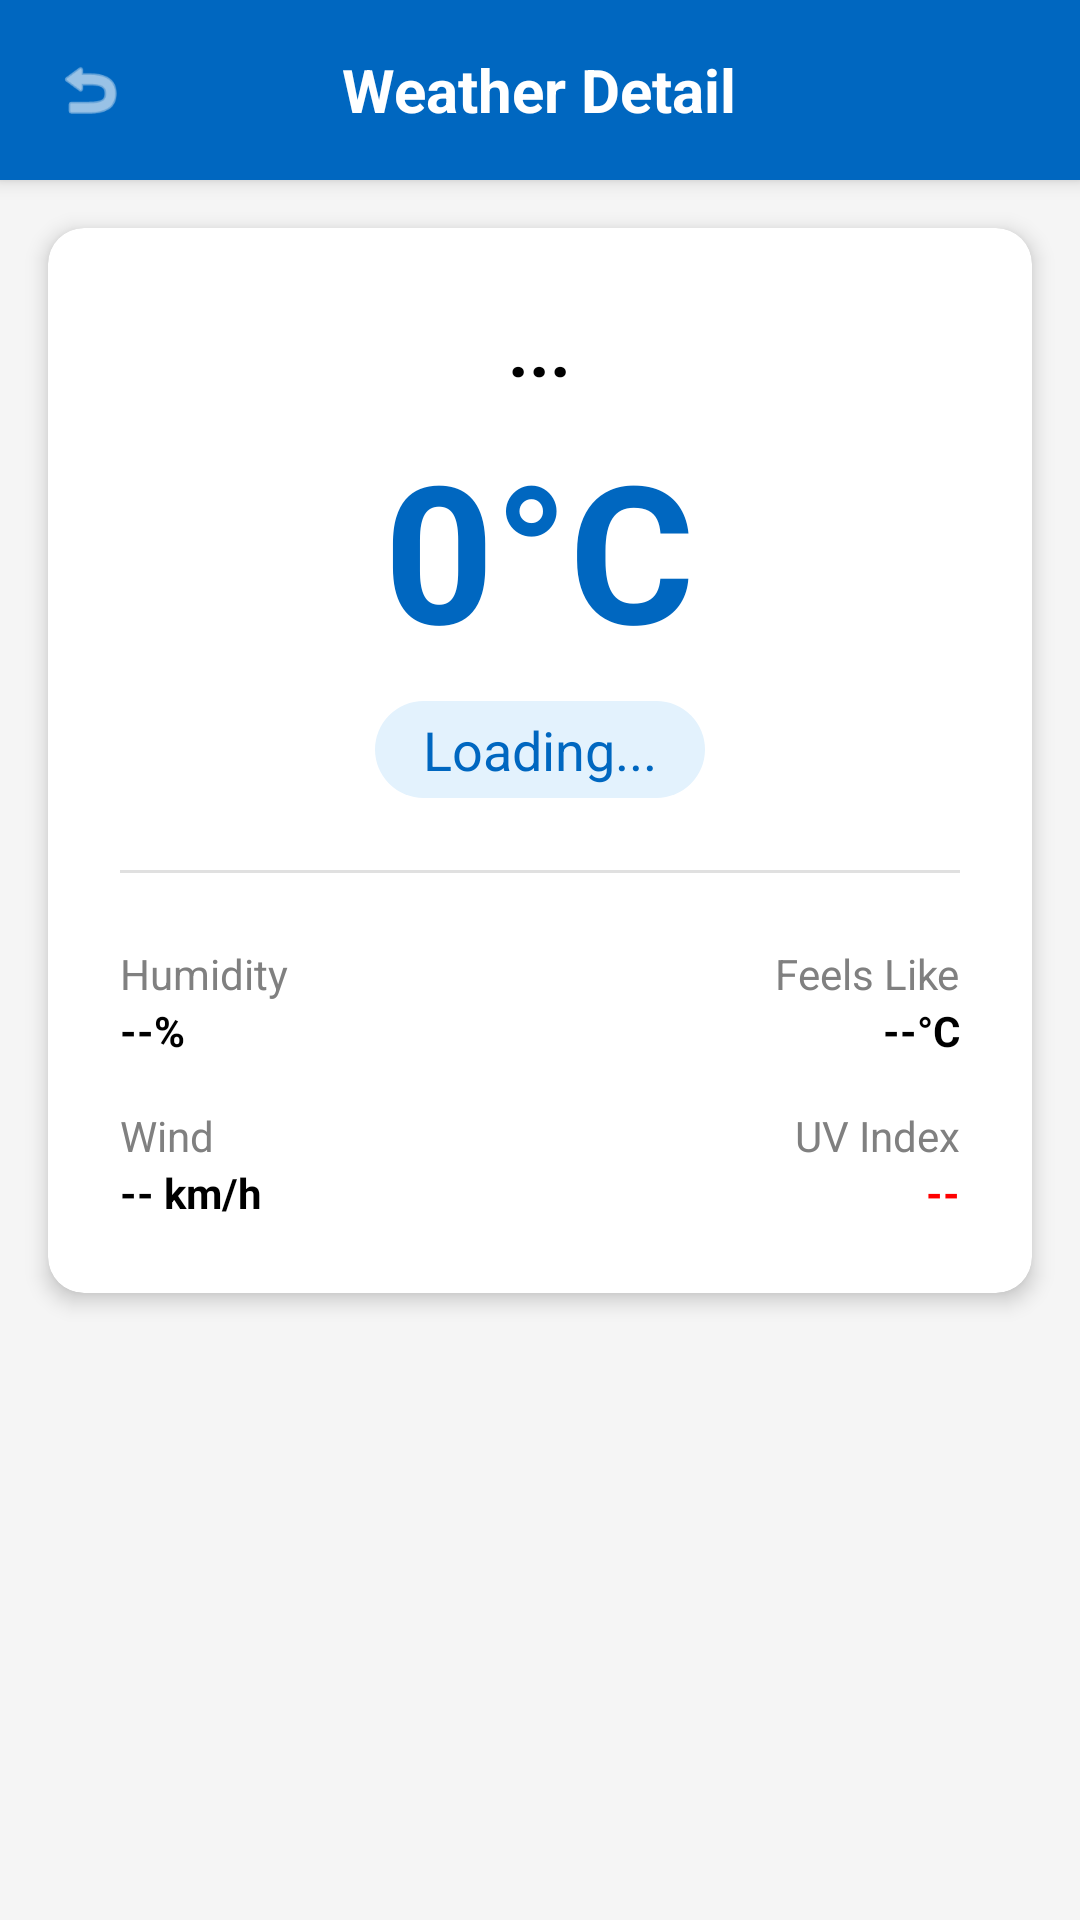

Icons on this 1080*1920 Android screen, each with its box as (left=x1, top=y1, right=x2, bottom=y2):
revert: (left=65, top=67, right=117, bottom=114)
